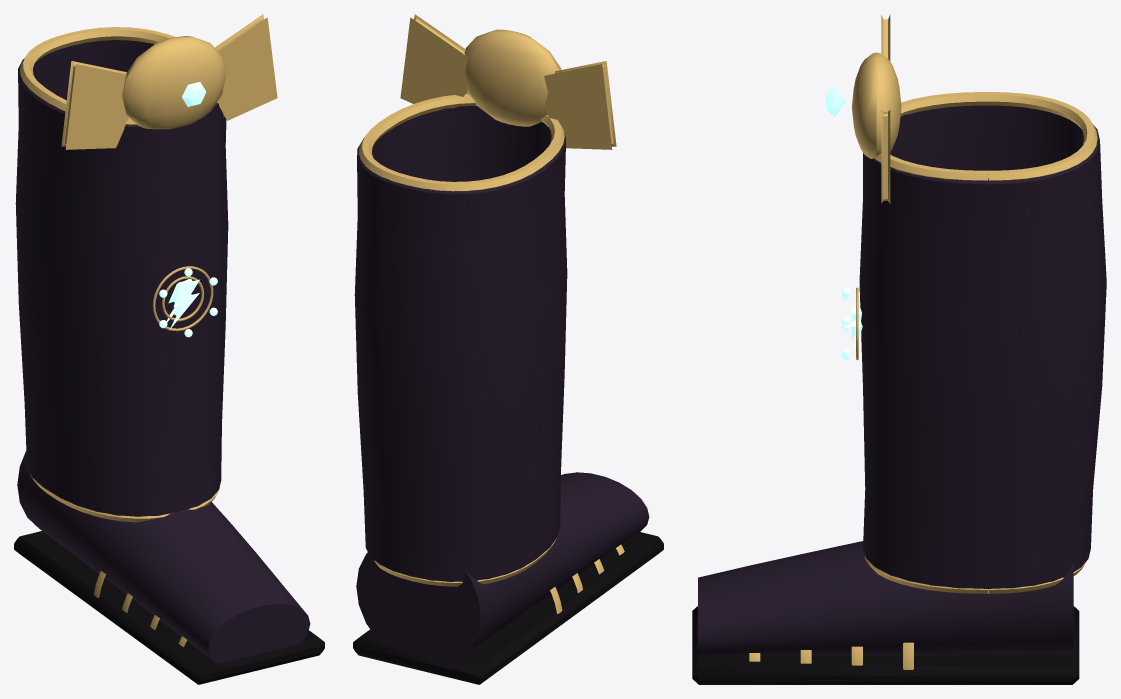
Rendered from boss_thunder_abbot_boots_1.glb.
3 renders of one model, left to right at view 1: azimuth 30°, elevation 25°; view 2: azimuth 150°, elevation 25°; view 3: azimuth 270°, elevation 25°, orthographic. The views are drawn at different scales.
Visible parts, largest first — view 1: boss_thunder_abbot_boots_1, AT_foot_L; view 2: boss_thunder_abbot_boots_1, AT_foot_L; view 3: boss_thunder_abbot_boots_1, AT_foot_L.
Boxes of the visible parts, bbox=[...] form: boss_thunder_abbot_boots_1: bbox=[15, 14, 277, 522]; AT_foot_L: bbox=[14, 451, 324, 684]; boss_thunder_abbot_boots_1: bbox=[354, 14, 616, 586]; AT_foot_L: bbox=[353, 472, 663, 684]; boss_thunder_abbot_boots_1: bbox=[825, 14, 1106, 593]; AT_foot_L: bbox=[692, 541, 1079, 684].
Size of the model in its own units: 0.2244 by 0.5768 by 0.3641.
